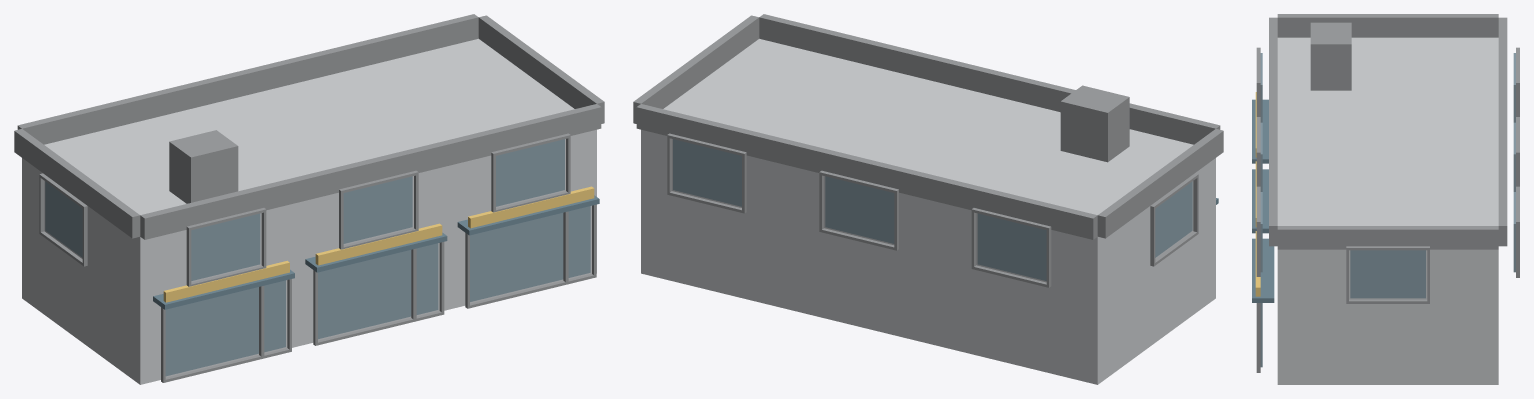
The model's file is commercial_2x1_a.glb.
The picture shows the model from 3 angles, left to right: view 1: azimuth 30°, elevation 25°; view 2: azimuth 150°, elevation 25°; view 3: azimuth 270°, elevation 25°; orthographic projection. The views are drawn at different scales.
Parts seen in each view (by area): view 1: commercial_2x1_a_0; view 2: commercial_2x1_a_0; view 3: commercial_2x1_a_0.
Part boxes in pixels (x1,y1,x2,y2): commercial_2x1_a_0: (14, 14, 604, 384); commercial_2x1_a_0: (633, 14, 1223, 384); commercial_2x1_a_0: (1252, 14, 1519, 384).
Size of the model in its own units: 15.74 by 6 by 7.87.
